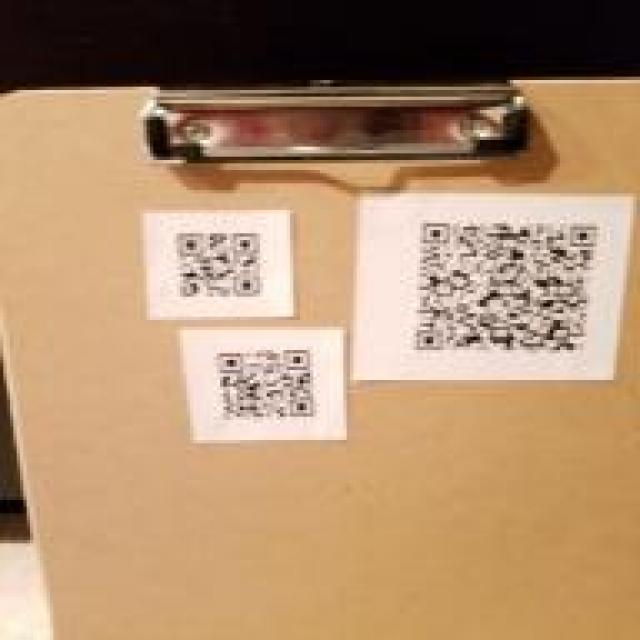QR_CODE: (402, 207, 613, 365), (198, 336, 327, 432), (168, 223, 274, 310)
